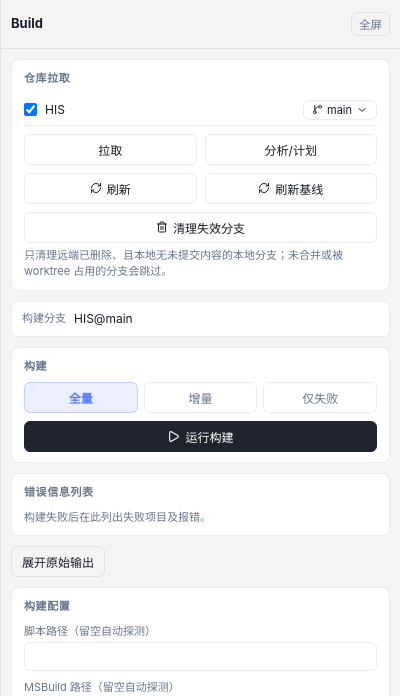
BuildPanel stale branch cleanup › does not ask for confirmation when nothing is deletable
Click the button "清理失效分支": {"x": 200, "y": 227} x1=24 y1=212 x2=377 y2=242
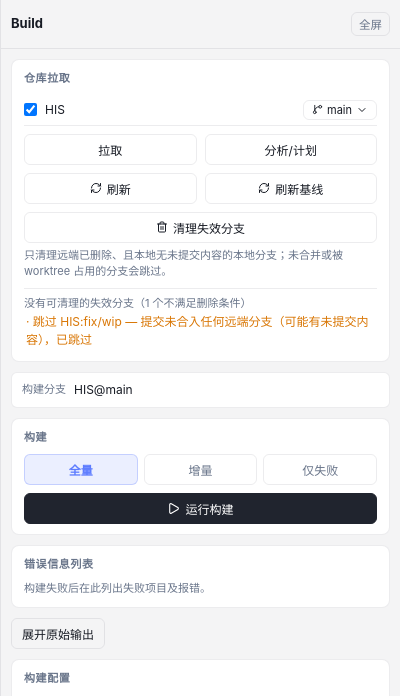
expect the text "没有可清理的失效分支（1 个不满足删除条件）" is shown: met, box x1=24 y1=296 x2=252 y2=310
